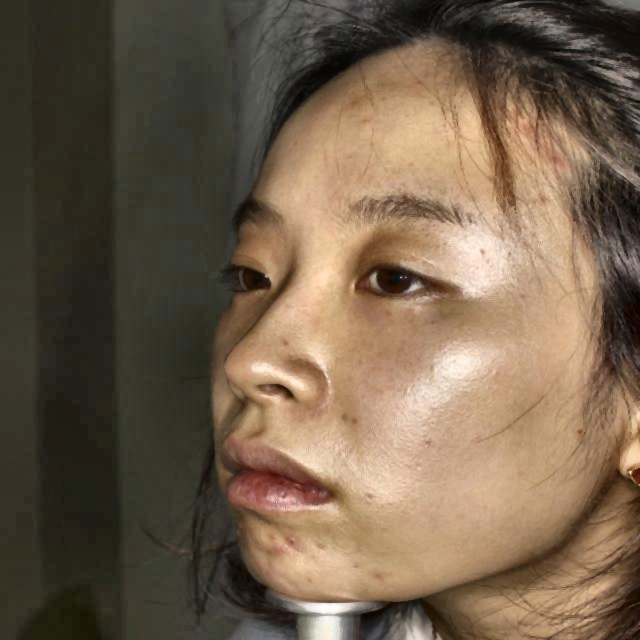comedone: (506, 105, 530, 143), (260, 536, 287, 563), (546, 147, 574, 173)
